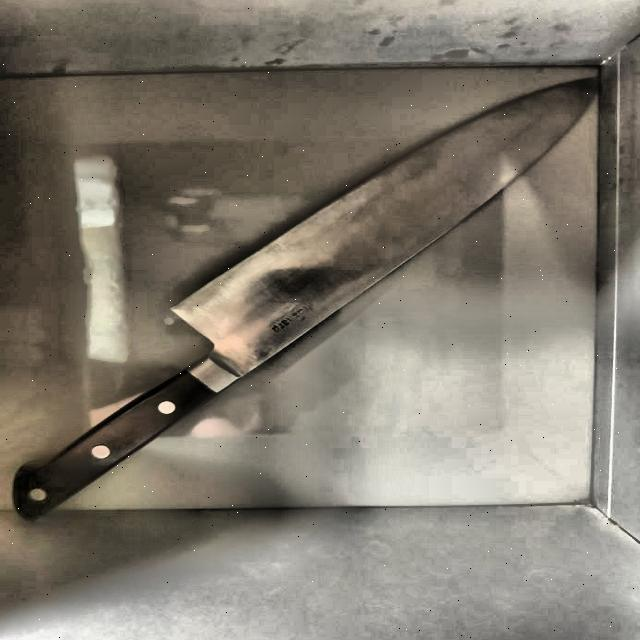knife: (7, 70, 601, 524)
